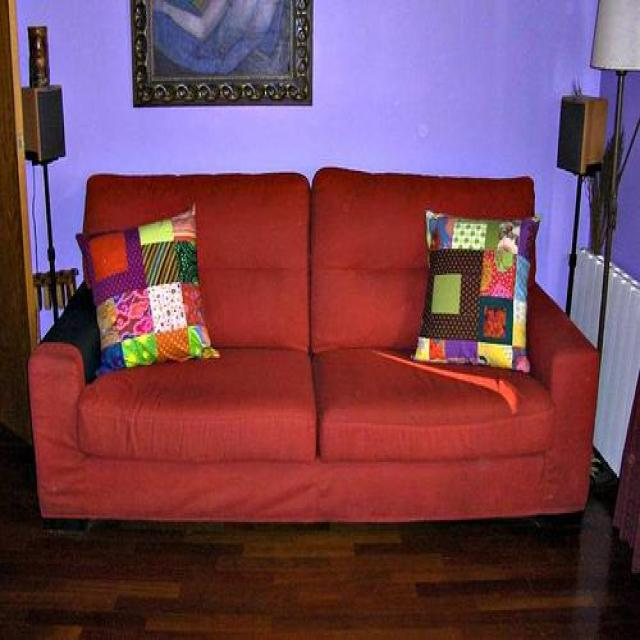sofa: (27, 164, 600, 536)
